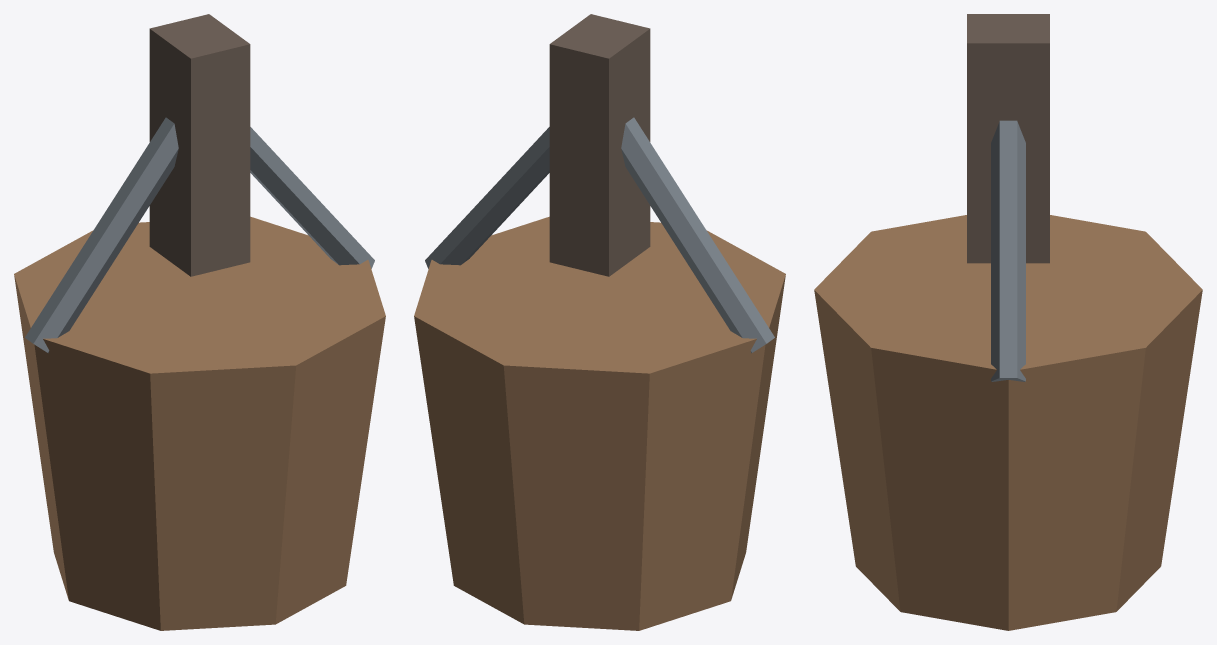
The model's file is bucket_wood.glb.
3 views of the same model, side by side, from view 1: azimuth 30°, elevation 25°; view 2: azimuth 150°, elevation 25°; view 3: azimuth 270°, elevation 25° (orthographic).
Visible parts, largest first — view 1: bucket_wood; view 2: bucket_wood; view 3: bucket_wood.
Boxes of the visible parts, bbox=[...] form: bucket_wood: bbox=[14, 14, 385, 630]; bucket_wood: bbox=[414, 14, 785, 630]; bucket_wood: bbox=[814, 14, 1202, 630].
Size of the model in its own units: 0.5739 by 0.855 by 0.56.
